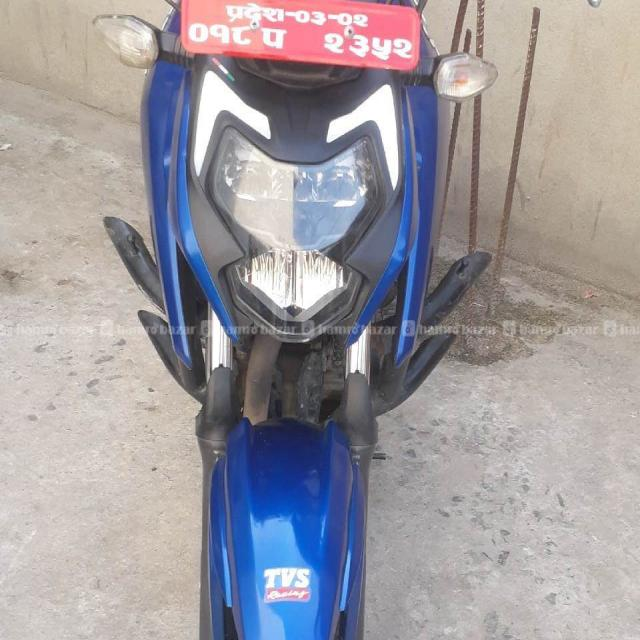License-plate: (180, 0, 424, 73)
